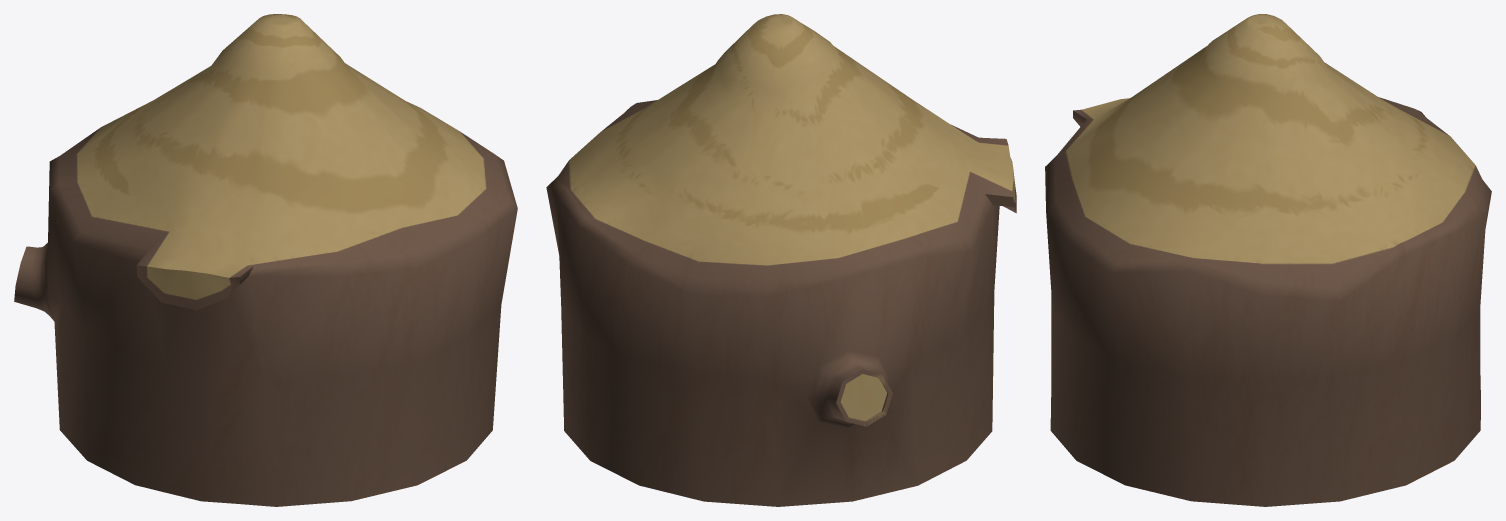
The model's file is END_WOOD.fbx.
The picture shows the model from 3 angles, left to right: view 1: azimuth 30°, elevation 25°; view 2: azimuth 150°, elevation 25°; view 3: azimuth 270°, elevation 25°; orthographic projection.
Visible parts, largest first — view 1: END_WOOD; view 2: END_WOOD; view 3: END_WOOD.
Part boxes in pixels (box(x1,y1,x2,y2)): END_WOOD: box(14, 14, 517, 506); END_WOOD: box(546, 14, 1016, 506); END_WOOD: box(1045, 14, 1491, 506).
Size of the model in its own units: 41.2 by 39.2 by 40.25.
